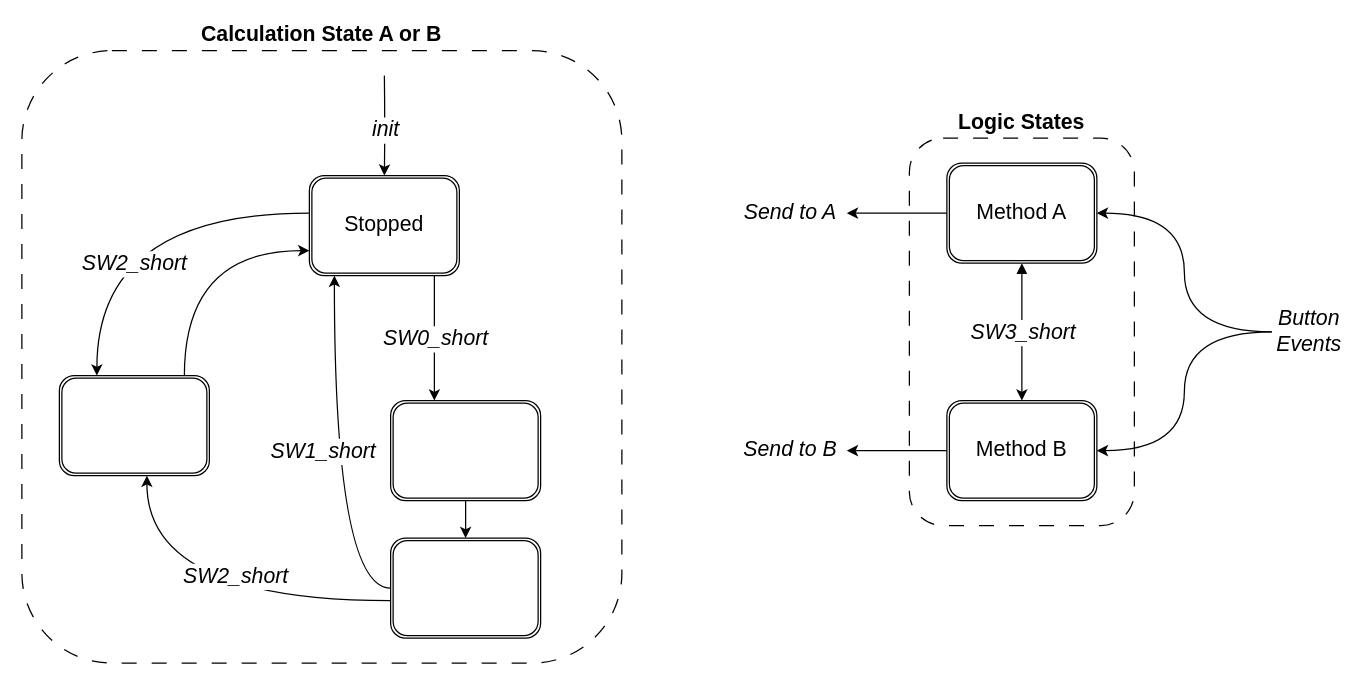
This 1369x685 diagram has some shape labels left out. Each missing label, with the centre of its shape:
"Resetting" goes at point (133, 425).
"Running" goes at point (465, 587).
"Starting" goes at point (465, 450).
